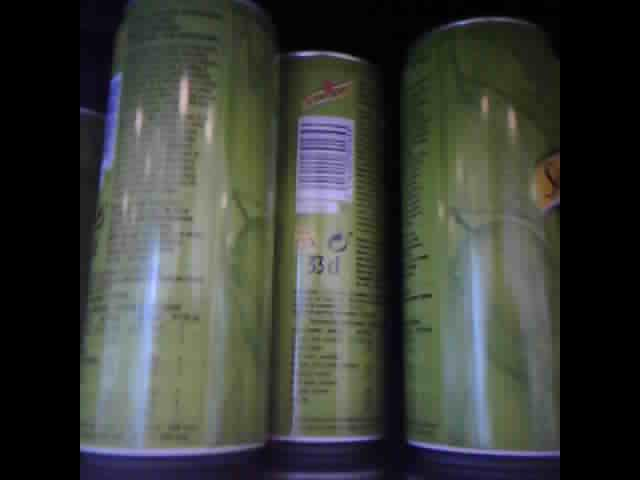schweppes: (80, 3, 278, 459), (394, 18, 560, 462), (267, 40, 392, 447)
